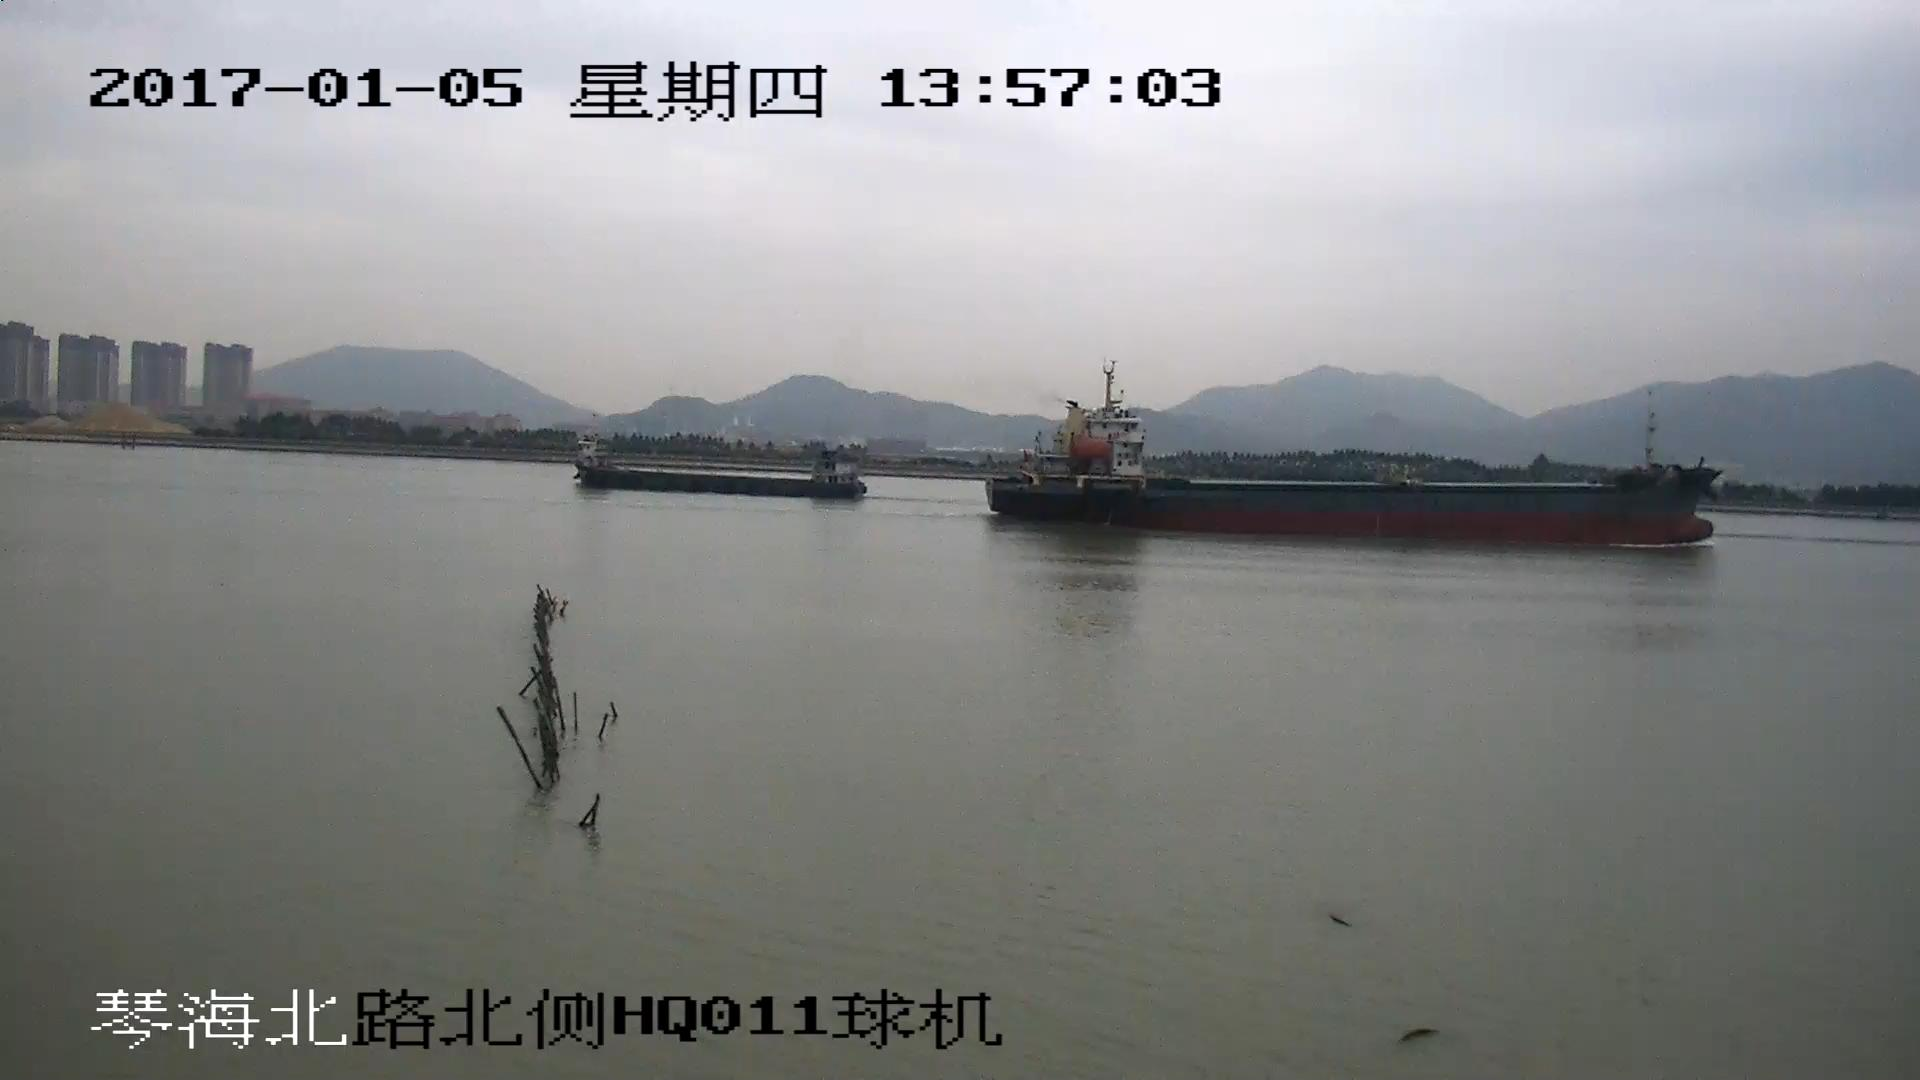general cargo ship: (982, 367, 1717, 549), (576, 433, 865, 500)
